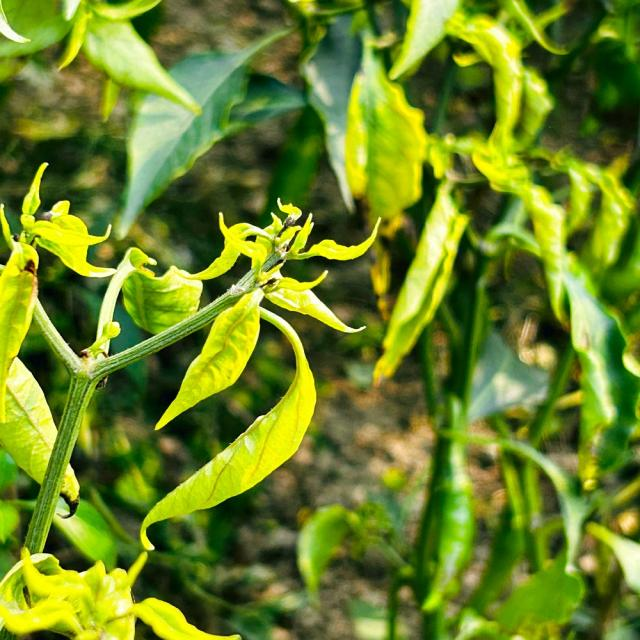Chilli_Leaf_Curl: (1, 0, 638, 638), (1, 163, 380, 636), (138, 302, 317, 550), (111, 24, 305, 240), (1, 0, 203, 122), (0, 546, 242, 639), (370, 179, 470, 387), (342, 36, 430, 228), (153, 286, 264, 432), (0, 355, 80, 518), (18, 161, 118, 279), (120, 264, 204, 335)
